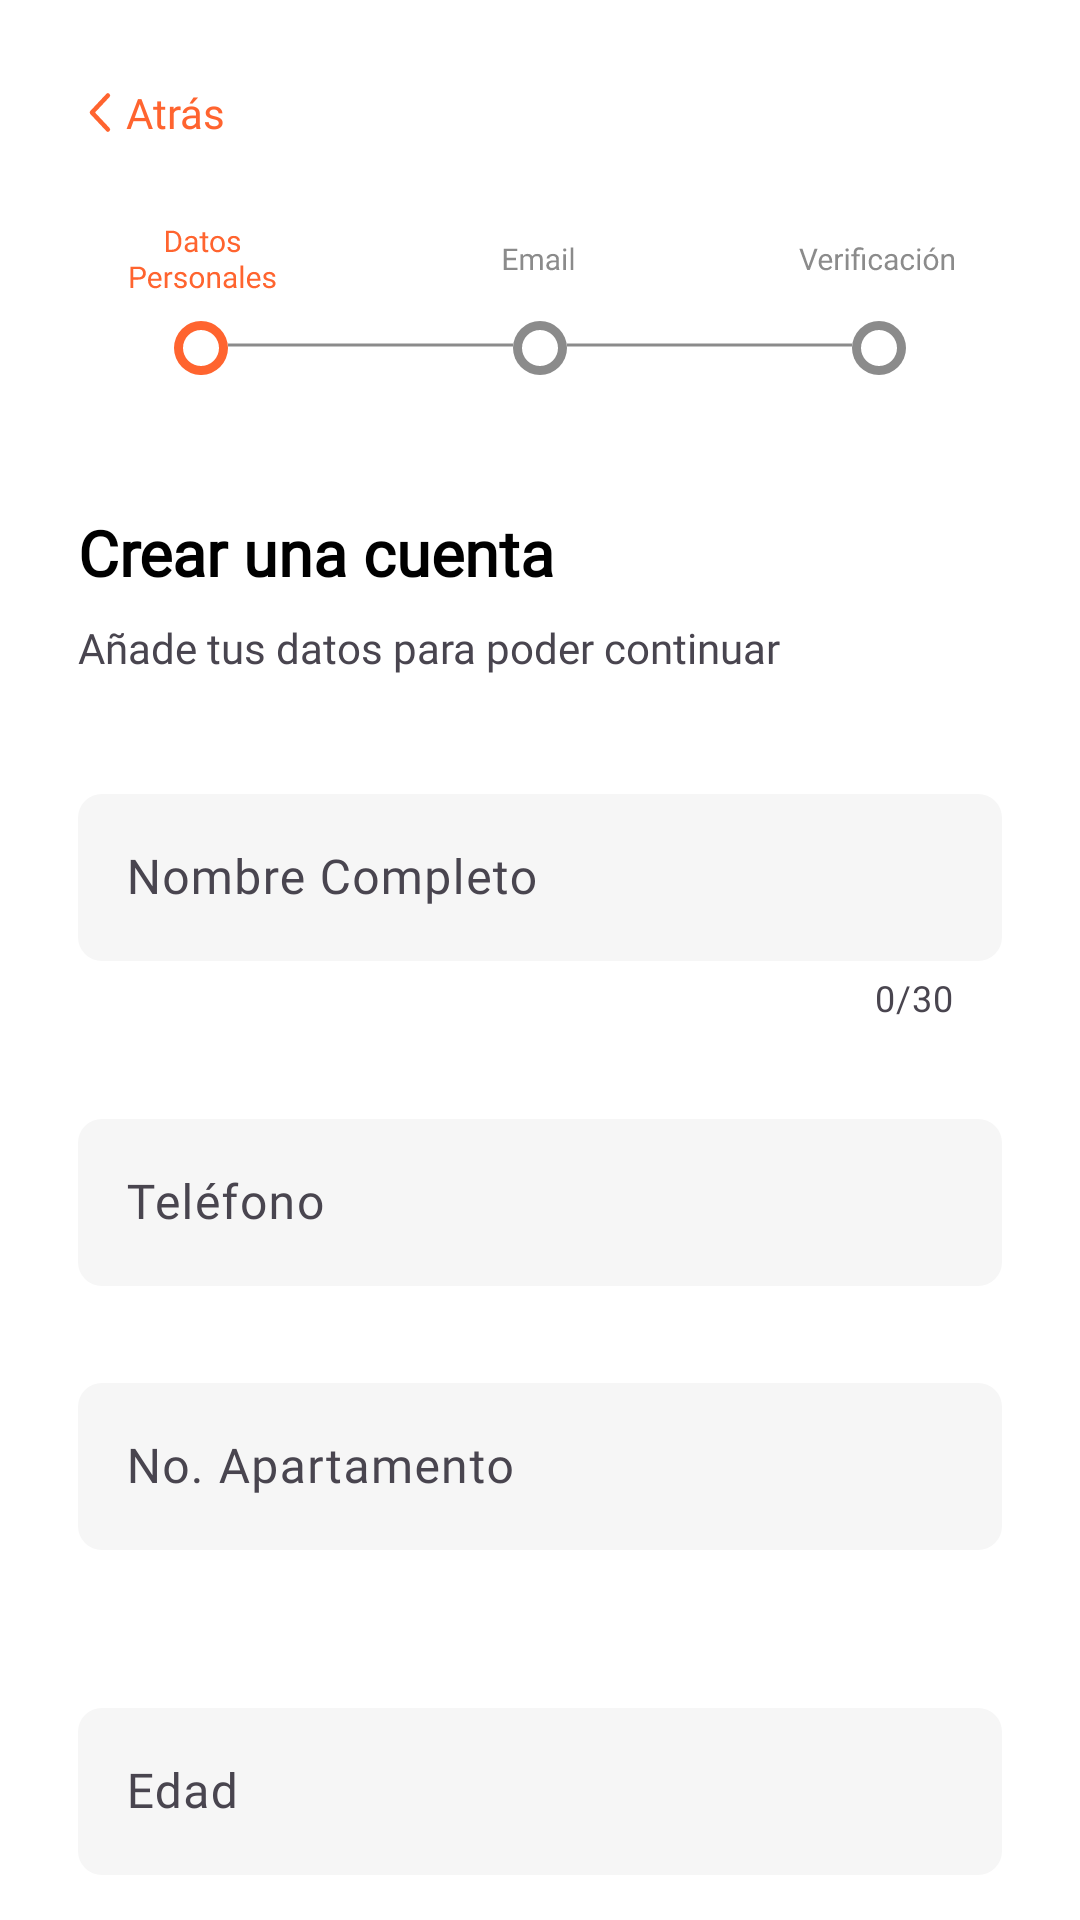

Named icons in this screenshot (1080*1920) and their bounding boxes, [x1,y1,x2,y2]:
return: [89,93,111,132]
